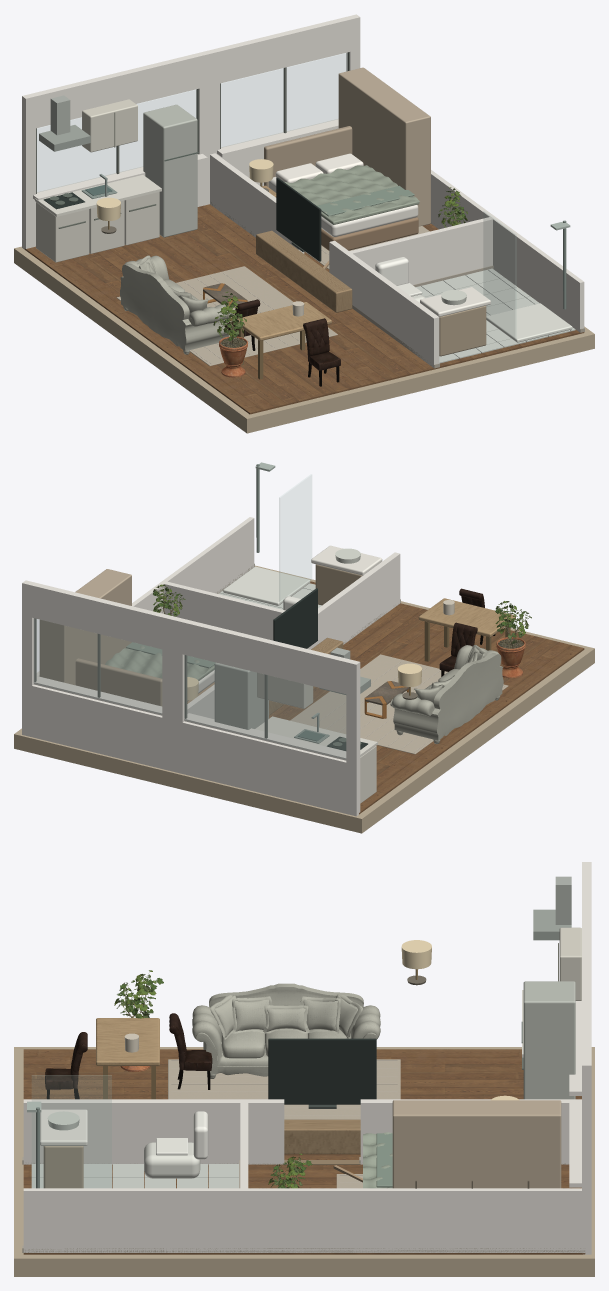
File: rent-showroom.glb
3 views of the same model, one above another, from view 1: azimuth 30°, elevation 25°; view 2: azimuth 150°, elevation 25°; view 3: azimuth 270°, elevation 25° (orthographic). The views are drawn at different scales.
Visible parts, largest first — view 1: 现代简约一居室案例, sofa_03, dining_chair_02, potted_plant_01_leaves (×2), potted_plant_01_pot, modern_coffee_table_01; view 2: 现代简约一居室案例, sofa_03, potted_plant_01_leaves (×2), dining_chair_02, modern_coffee_table_01, potted_plant_01_pot; view 3: 现代简约一居室案例, sofa_03, dining_chair_02 (×2), potted_plant_01_leaves (×2).
Part boxes in pixels (left/top/right/bottom): 现代简约一居室案例: left=14, top=14, right=594, bottom=433; sofa_03: left=120, top=255, right=232, bottom=354; dining_chair_02: left=303, top=318, right=340, bottom=386; potted_plant_01_leaves (×2): left=213, top=187, right=467, bottom=340; potted_plant_01_pot: left=219, top=336, right=247, bottom=377; modern_coffee_table_01: left=203, top=283, right=247, bottom=320; 现代简约一居室案例: left=14, top=462, right=594, bottom=833; sofa_03: left=390, top=645, right=503, bottom=744; potted_plant_01_leaves (×2): left=153, top=584, right=531, bottom=644; dining_chair_02: left=439, top=622, right=477, bottom=676; modern_coffee_table_01: left=364, top=681, right=408, bottom=718; potted_plant_01_pot: left=496, top=637, right=525, bottom=678; 现代简约一居室案例: left=14, top=862, right=594, bottom=1276; sofa_03: left=192, top=983, right=380, bottom=1078; dining_chair_02 (×2): left=45, top=1013, right=212, bottom=1099; potted_plant_01_leaves (×2): left=114, top=970, right=312, bottom=1188.
Size of the model in its own units: 6.24 by 2.85 by 7.24.
Materials: 61 (12 with a texture image).
